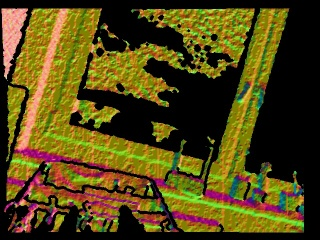station: (164, 139, 213, 200)
